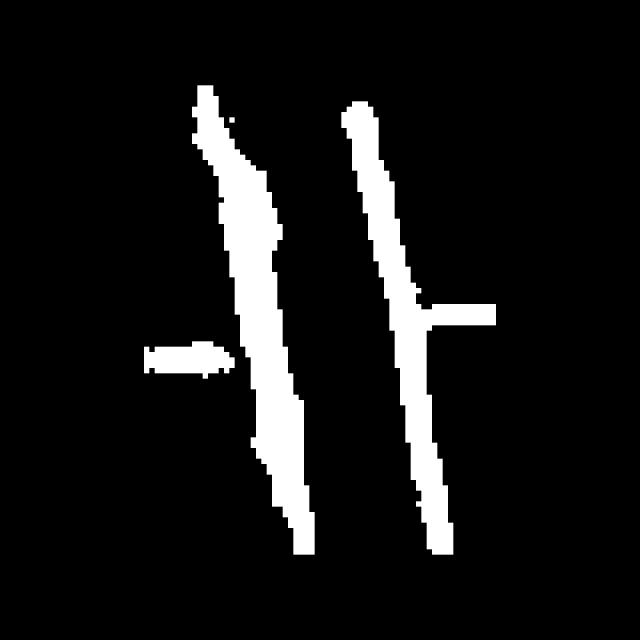capacitor: (188, 78, 456, 564)
